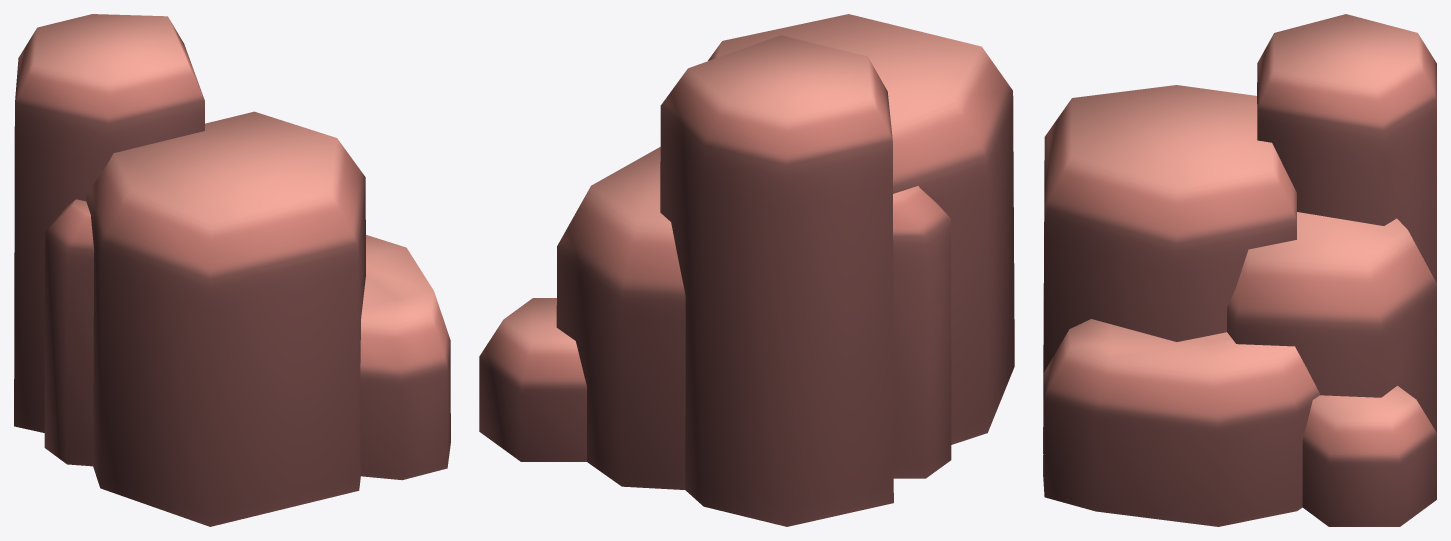
File: Stone001.FBX
The picture shows the model from 3 angles, left to right: view 1: azimuth 30°, elevation 25°; view 2: azimuth 150°, elevation 25°; view 3: azimuth 270°, elevation 25°; orthographic projection. The views are drawn at different scales.
Visible parts, largest first — view 1: Stone001; view 2: Stone001; view 3: Stone001.
Boxes of the visible parts, box(x1,y1,x2,y2) form: Stone001: box(14, 14, 450, 526); Stone001: box(479, 14, 1014, 526); Stone001: box(1043, 14, 1436, 526).
Size of the model in its own units: 100 by 100 by 100.
